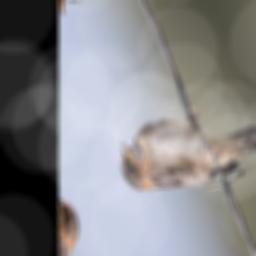Swallow: (110, 60, 256, 245)
